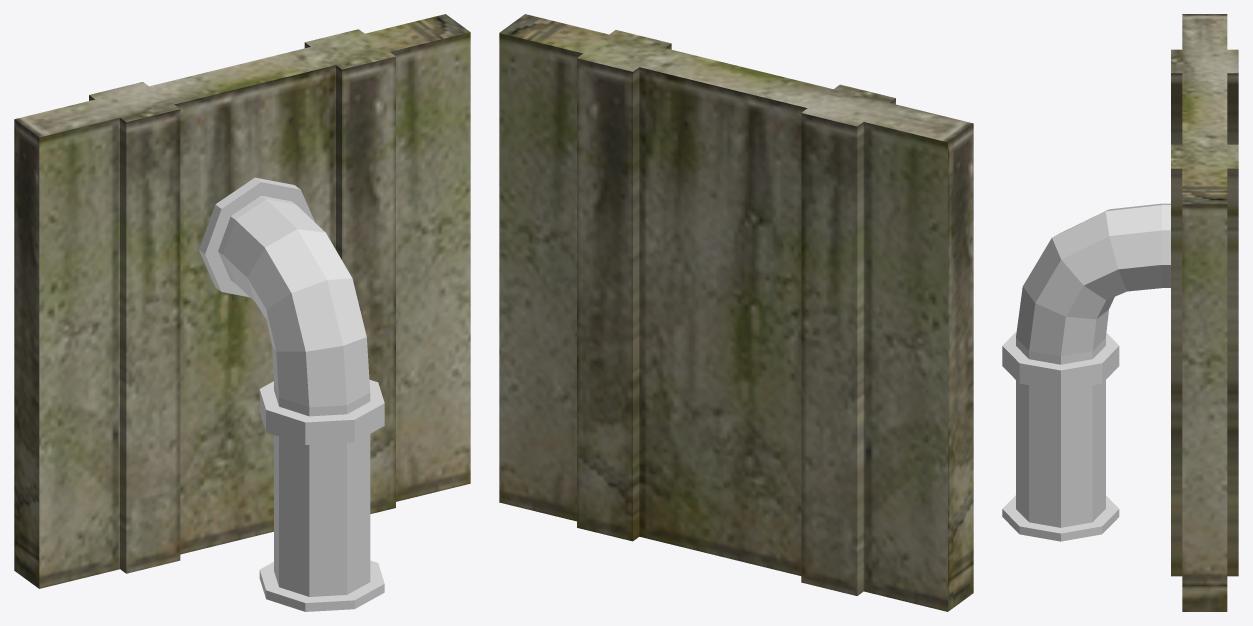
File: MO_WALL_S-C_03.fbx
The picture shows the model from 3 angles, left to right: view 1: azimuth 30°, elevation 25°; view 2: azimuth 150°, elevation 25°; view 3: azimuth 270°, elevation 25°; orthographic projection. The views are drawn at different scales.
Visible parts, largest first — view 1: MO_WALL_S-C_03; view 2: MO_WALL_S-C_03; view 3: MO_WALL_S-C_03.
Part boxes in pixels (x1=…): MO_WALL_S-C_03: x1=14, y1=14, x2=470, y2=611; MO_WALL_S-C_03: x1=499, y1=14, x2=973, y2=611; MO_WALL_S-C_03: x1=1002, y1=14, x2=1238, y2=611.
Size of the model in its own units: 4 by 4 by 2.1.
